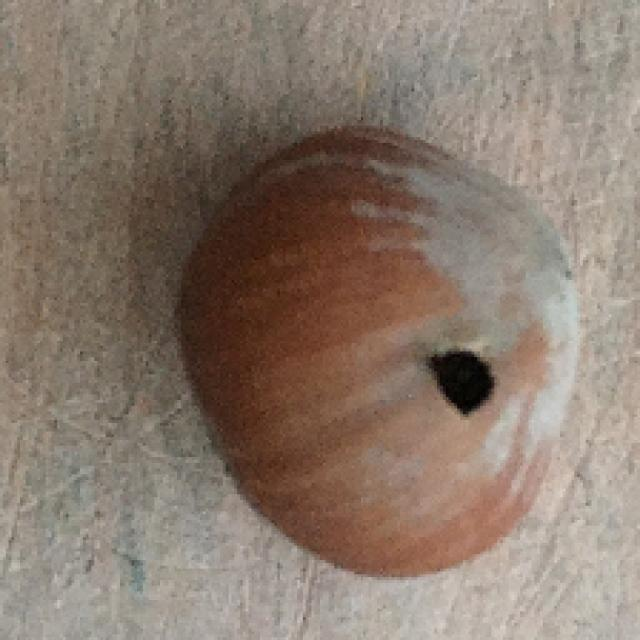DamagedHazelnut: (173, 126, 585, 583)
